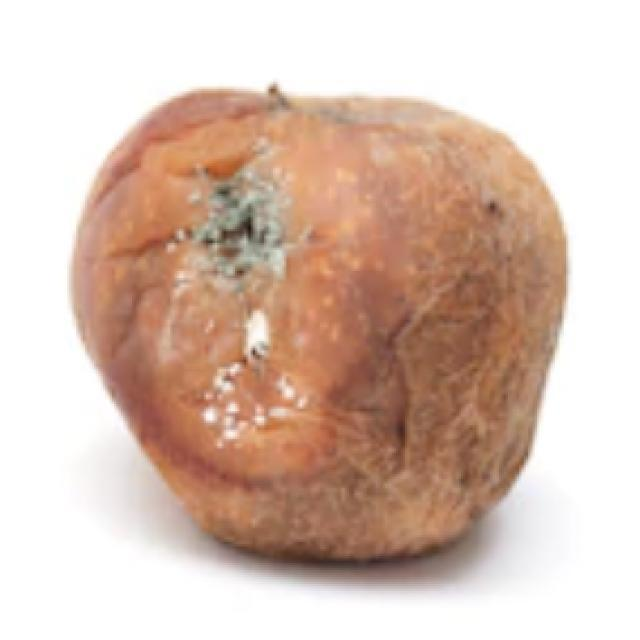Rotten: (65, 80, 572, 563)
